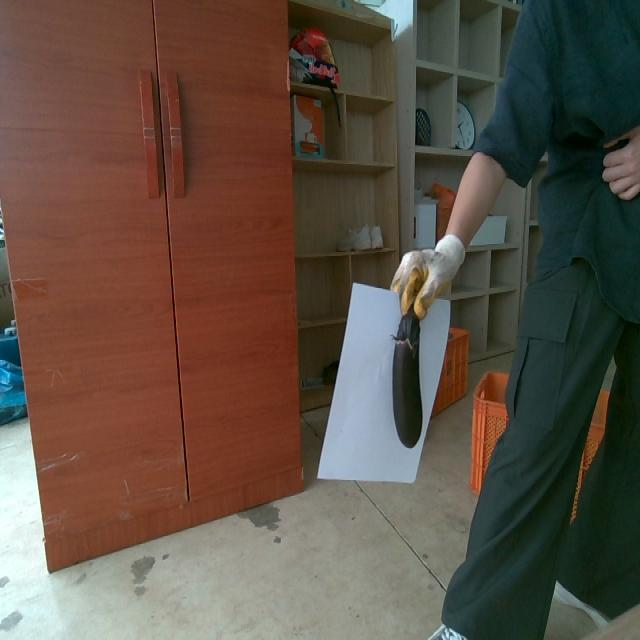Egg plant: (392, 315, 421, 447), (399, 320, 415, 344)
